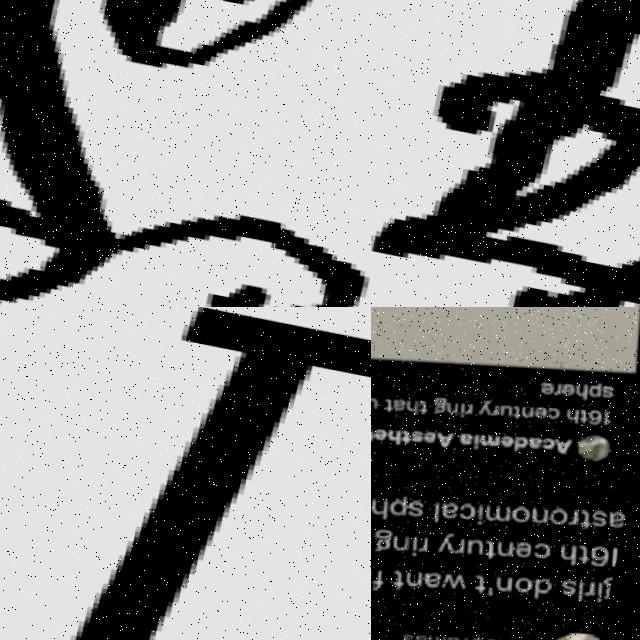1: (615, 541, 625, 562), (605, 403, 616, 421)
6: (591, 537, 617, 563), (589, 401, 609, 422)
A: (371, 0, 640, 307)
I: (75, 307, 371, 640)
